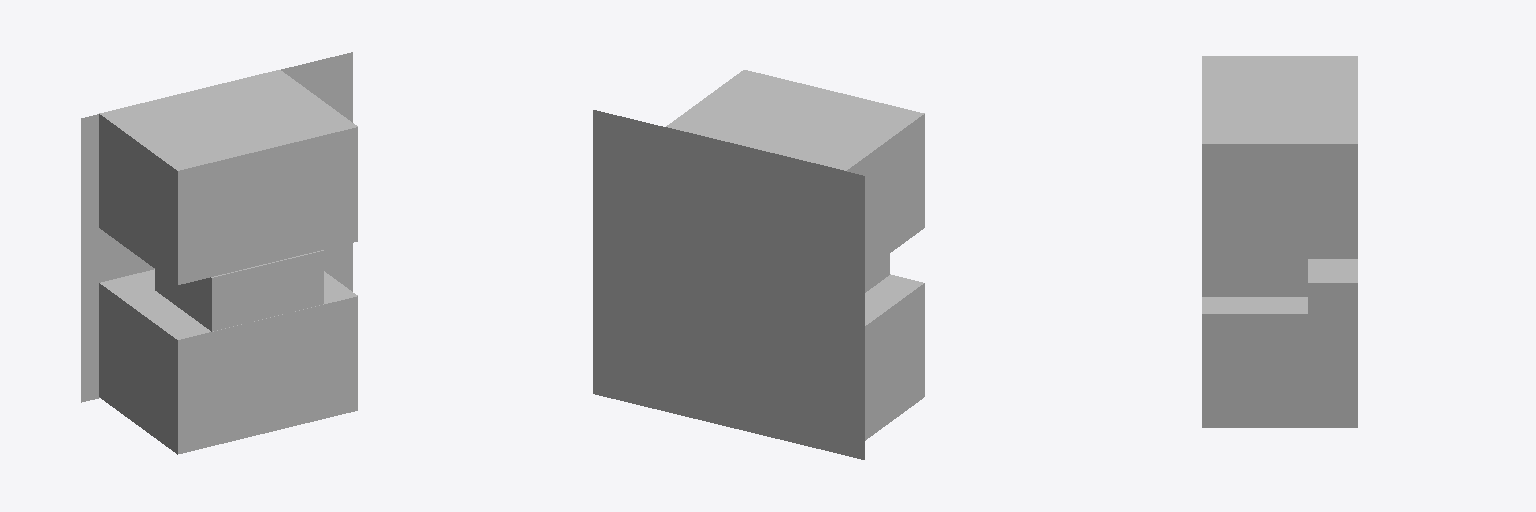
File: tunnelx90.obj
3 views of the same model, side by side, from view 1: azimuth 30°, elevation 25°; view 2: azimuth 150°, elevation 25°; view 3: azimuth 270°, elevation 25° (orthographic).
Visible parts, largest first — view 1: Cube.001, Plane; view 2: Plane, Cube.001; view 3: Cube.001.
Part boxes in pixels (x1,y1,x2,y2): Cube.001: (99, 70, 357, 454); Plane: (81, 52, 352, 402); Plane: (593, 110, 864, 459); Cube.001: (623, 70, 924, 453); Cube.001: (1202, 56, 1357, 427).
Size of the model in its own units: 10 by 10.01 by 5.